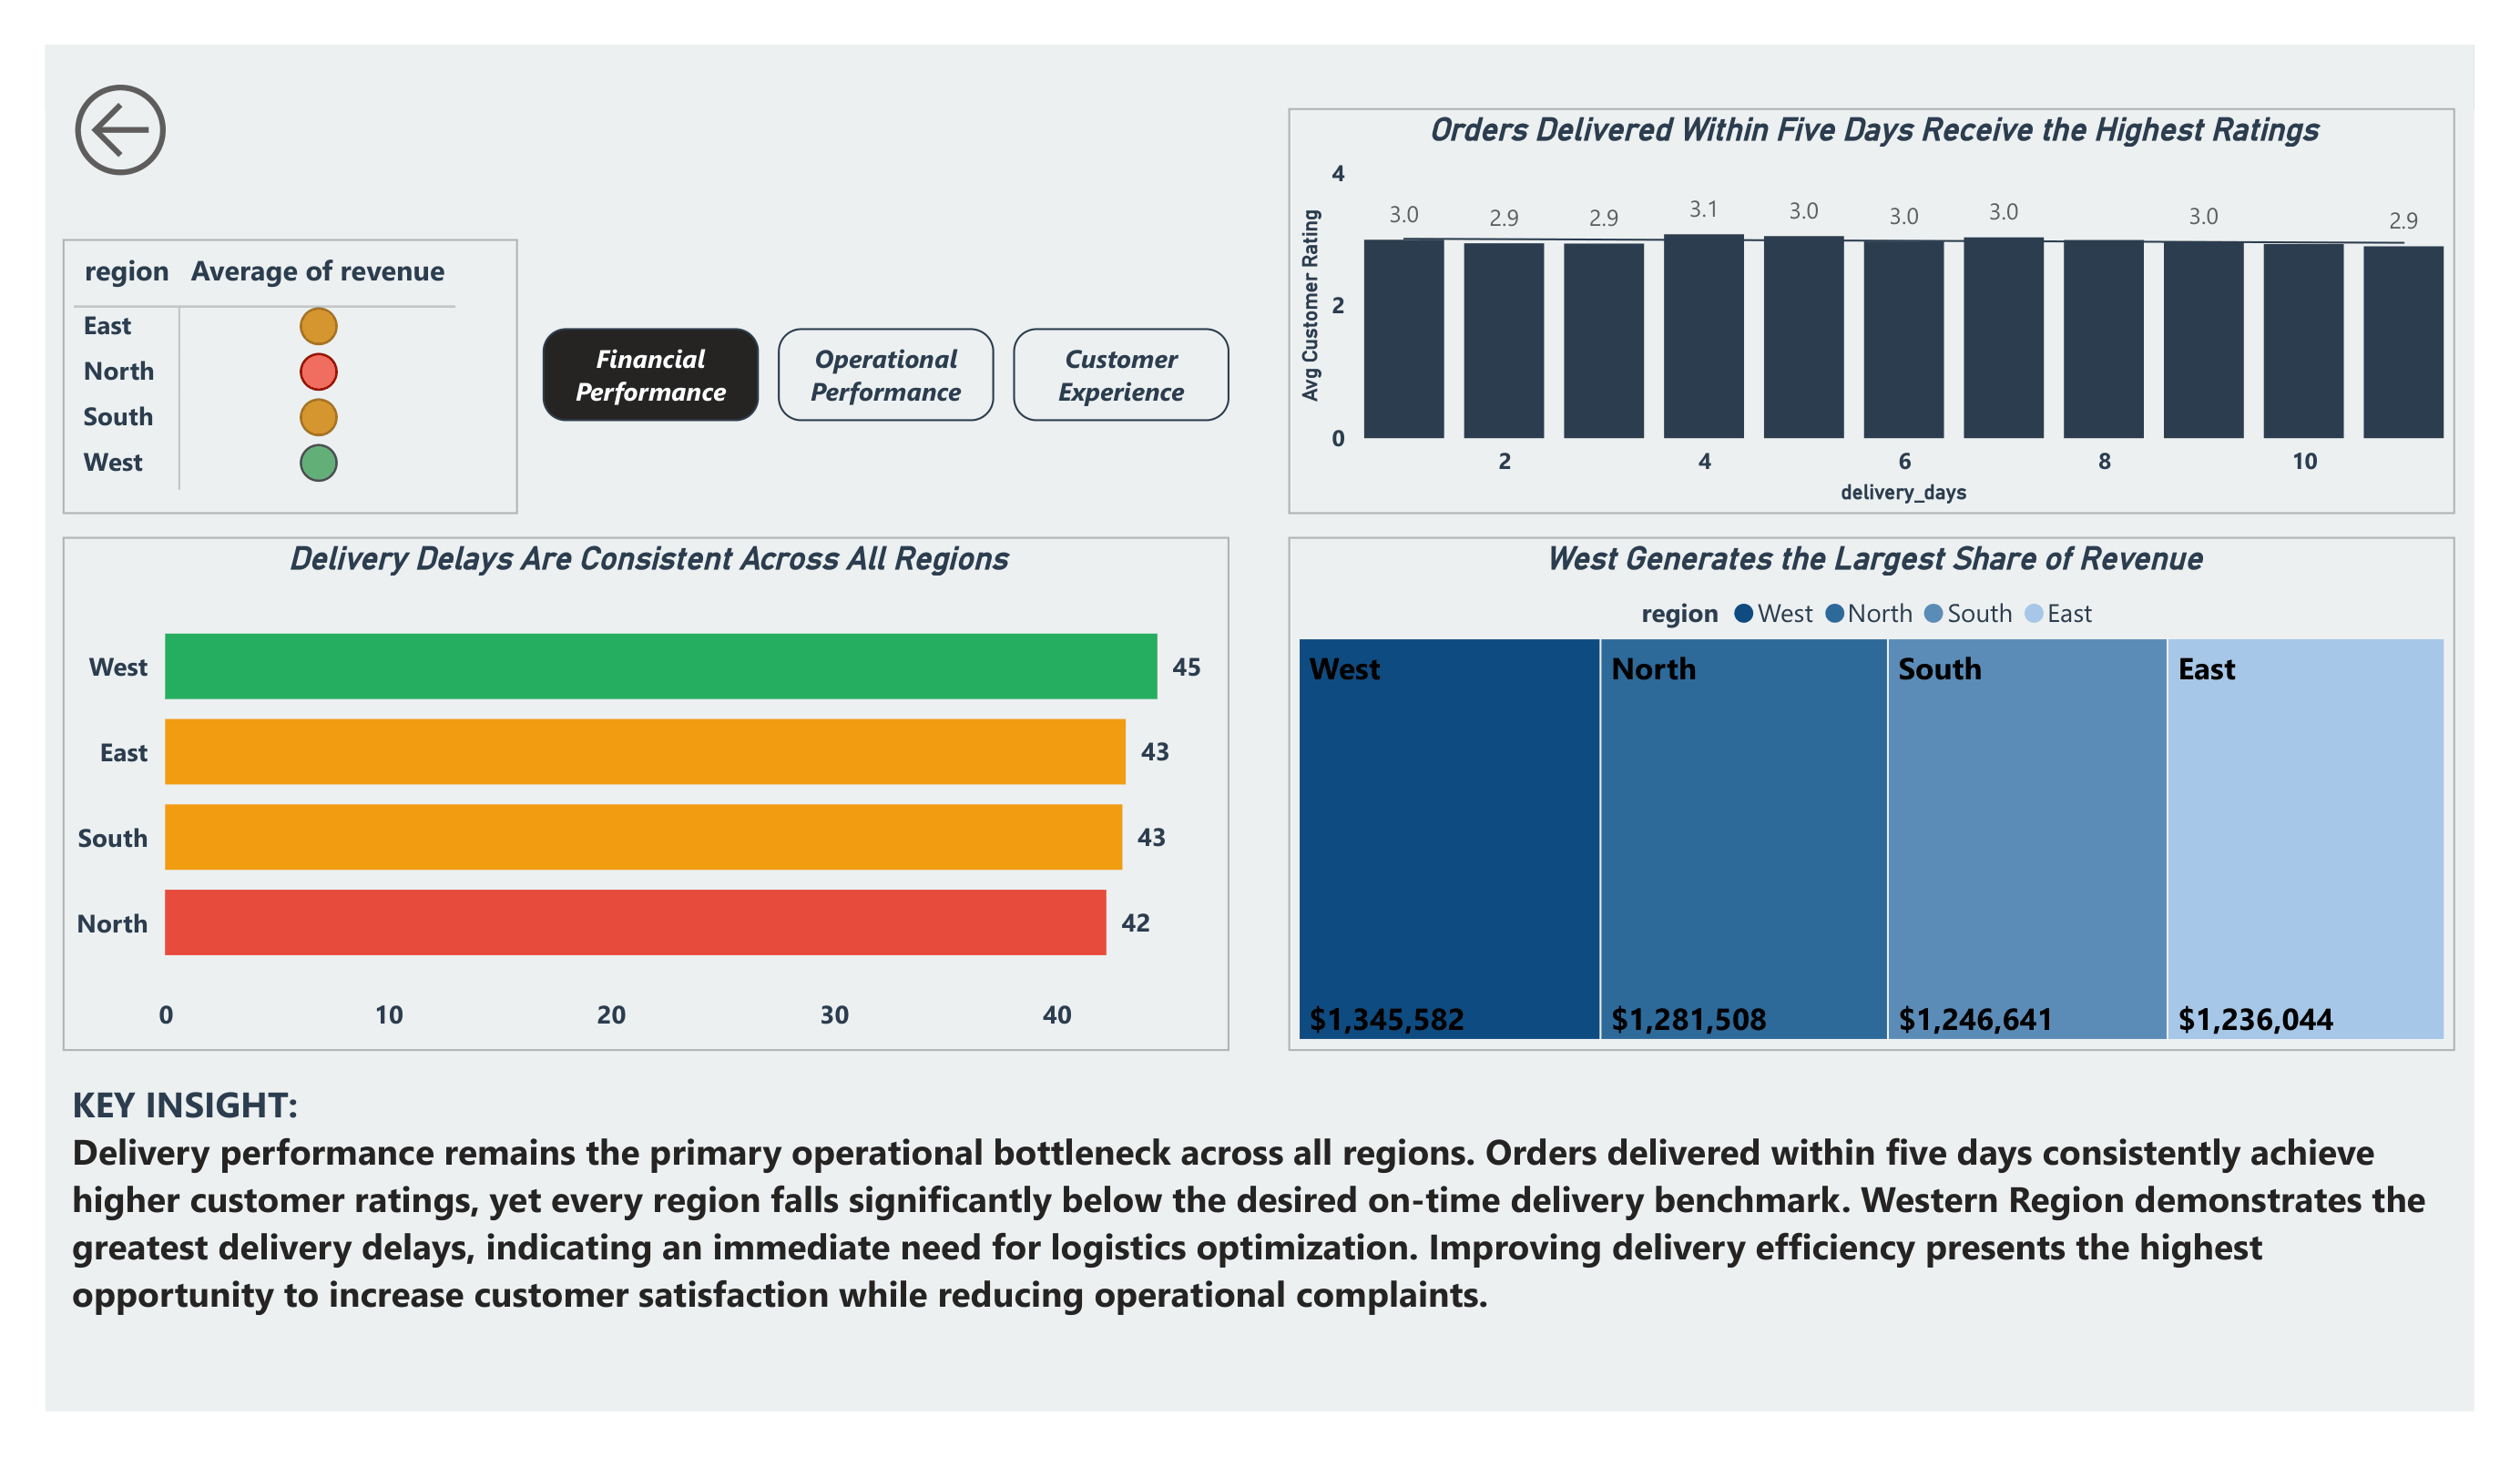

Layout of this report page (visuals, bound fields, positions):
{"tool":"powerbi","page":{"name":"Delivery Impact & Regional Breakdown","canvas":[1280,720],"ordinal":2},"visuals":[{"type":"clusteredColumnChart","title":"Orders Delivered Within Five Days Receive the Highest Ratings","fields":{"Category":["ecommerce_sales_analytics_5000.delivery_days"],"Y":["Basic Metrics.Avg Customer Rating"]},"box":[654.8,32.6,615.1,214],"z":0},{"type":"treemap","title":"West  Generates the Largest Share of Revenue","fields":{"Group":["ecommerce_sales_analytics_5000.region"],"Values":["Basic Metrics.Total Revenue"]},"box":[654.8,259.4,615.1,270.7],"z":1000},{"type":"actionButton","box":[8.5,14.2,72.3,60.9],"z":2000},{"type":"textbox","box":[8.5,540,1261.4,155.9],"z":3000},{"type":"clusteredBarChart","title":"Delivery Delays Are Consistent Across All Regions","fields":{"Category":["ecommerce_sales_analytics_5000.region"],"Y":["Basic Metrics.Delivery Performance %"]},"box":[8.5,259.4,615.1,270.7],"z":4000},{"type":"pivotTable","title":"West and South Generate the Largest Share of Revenue","fields":{"Rows":["ecommerce_sales_analytics_5000.region"],"Values":["Avg(ecommerce_sales_analytics_5000.revenue)"]},"box":[8.5,102,240.9,144.6],"z":6000},{"type":"bookmarkNavigator","box":[262.2,148.8,361.4,49.6],"z":8000}]}

Visuals, with their boxes on the page's 1280x720 design canvas (x1, y1, x2, y2). These are canvas units, not pixel positions in the 2520x1457 screenshot, which may show the page scaled, cropped or inside an application window:
"Orders Delivered Within Five Days Receive the Highest Ratings" clusteredColumnChart: 655,33,1270,247
"West  Generates the Largest Share of Revenue" treemap: 655,259,1270,530
actionButton: 8,14,81,75
textbox: 8,540,1270,696
"Delivery Delays Are Consistent Across All Regions" clusteredBarChart: 8,259,624,530
"West and South Generate the Largest Share of Revenue" pivotTable: 8,102,249,247
bookmarkNavigator: 262,149,624,198
